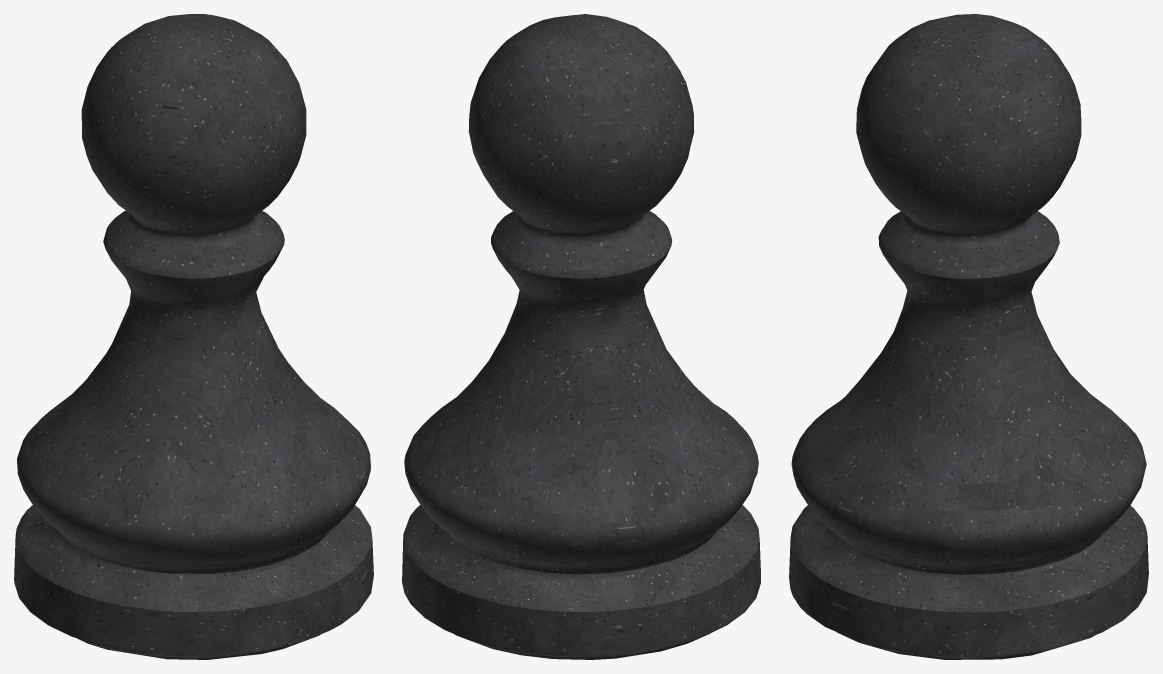
Rendered from pesec_cerna.glb.
3 renders of one model, left to right at view 1: azimuth 30°, elevation 25°; view 2: azimuth 150°, elevation 25°; view 3: azimuth 270°, elevation 25°, orthographic.
Parts seen in each view (by area): view 1: pesec_cerna; view 2: pesec_cerna; view 3: pesec_cerna.
Part boxes in pixels (x1,y1,x2,y2): pesec_cerna: [14, 14, 373, 659]; pesec_cerna: [402, 14, 760, 659]; pesec_cerna: [789, 14, 1148, 659].
Bounding box in the file's own units: 0.0284 × 0.05 × 0.0284.
1 material, 1 textured.
